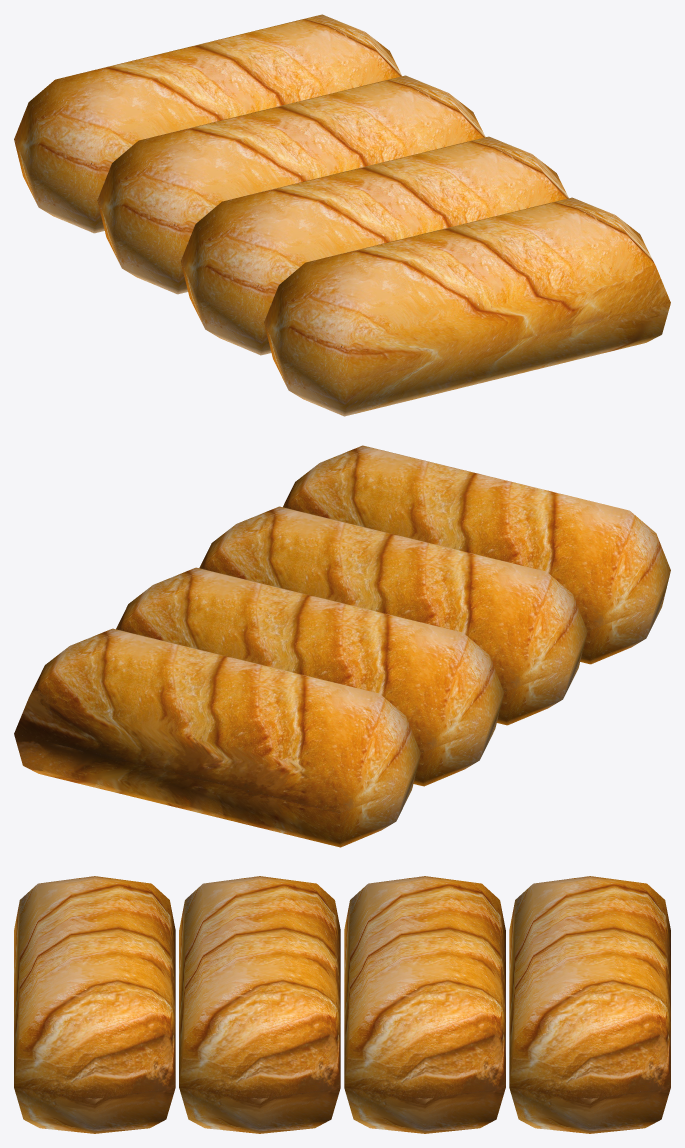
Rendered from loafpile.fbx.
The picture shows the model from 3 angles, top to bottom: view 1: azimuth 30°, elevation 25°; view 2: azimuth 150°, elevation 25°; view 3: azimuth 270°, elevation 25°; orthographic projection.
Visible parts, largest first — view 1: Loaf; view 2: Loaf; view 3: Loaf.
Part boxes in pixels (left/top/right/bottom): Loaf: left=14, top=14, right=670, bottom=416; Loaf: left=14, top=445, right=670, bottom=847; Loaf: left=14, top=876, right=670, bottom=1133.
Size of the model in its own units: 123 by 39.03 by 189.
